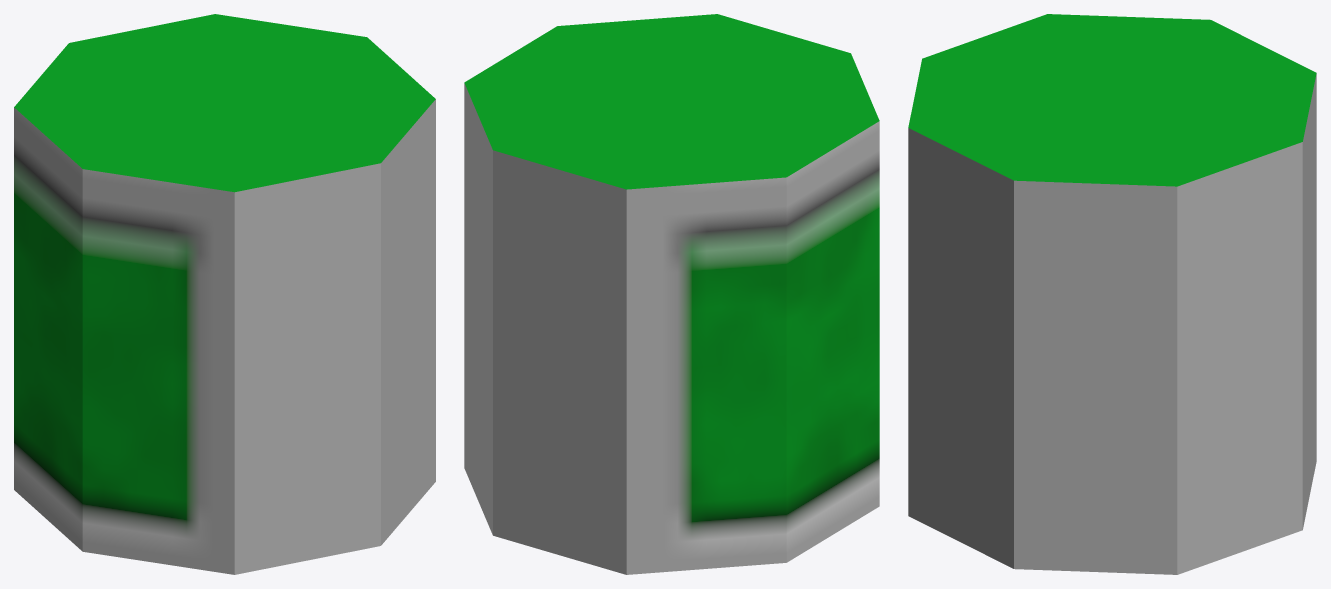
The model's file is Can_of_Paint_02.fbx.
The picture shows the model from 3 angles, left to right: view 1: azimuth 30°, elevation 25°; view 2: azimuth 150°, elevation 25°; view 3: azimuth 270°, elevation 25°; orthographic projection.
Parts seen in each view (by area): view 1: Hall.092; view 2: Hall.092; view 3: Hall.092.
Boxes of the visible parts, left/top/right/bottom form: Hall.092: left=14, top=14, right=435, bottom=574; Hall.092: left=464, top=14, right=879, bottom=574; Hall.092: left=908, top=14, right=1316, bottom=574.
Bounding box in the file's own units: 19.06 × 20 × 19.06.
